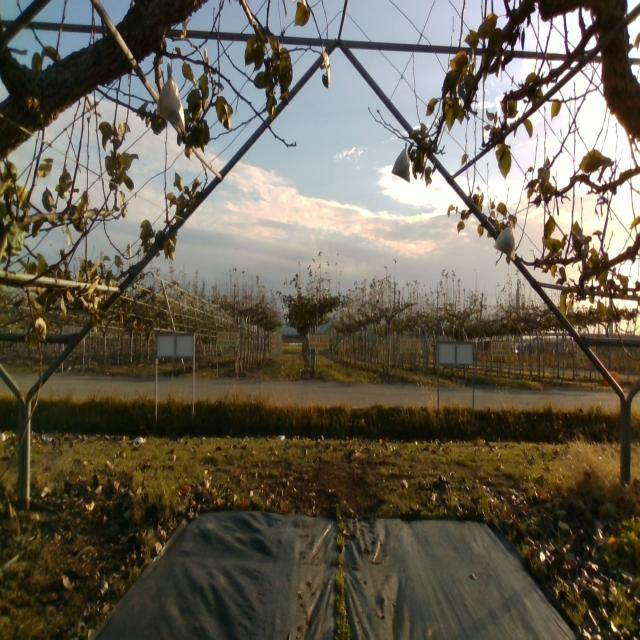pearbags: (154, 69, 187, 136), (493, 223, 516, 261), (392, 142, 410, 182)
